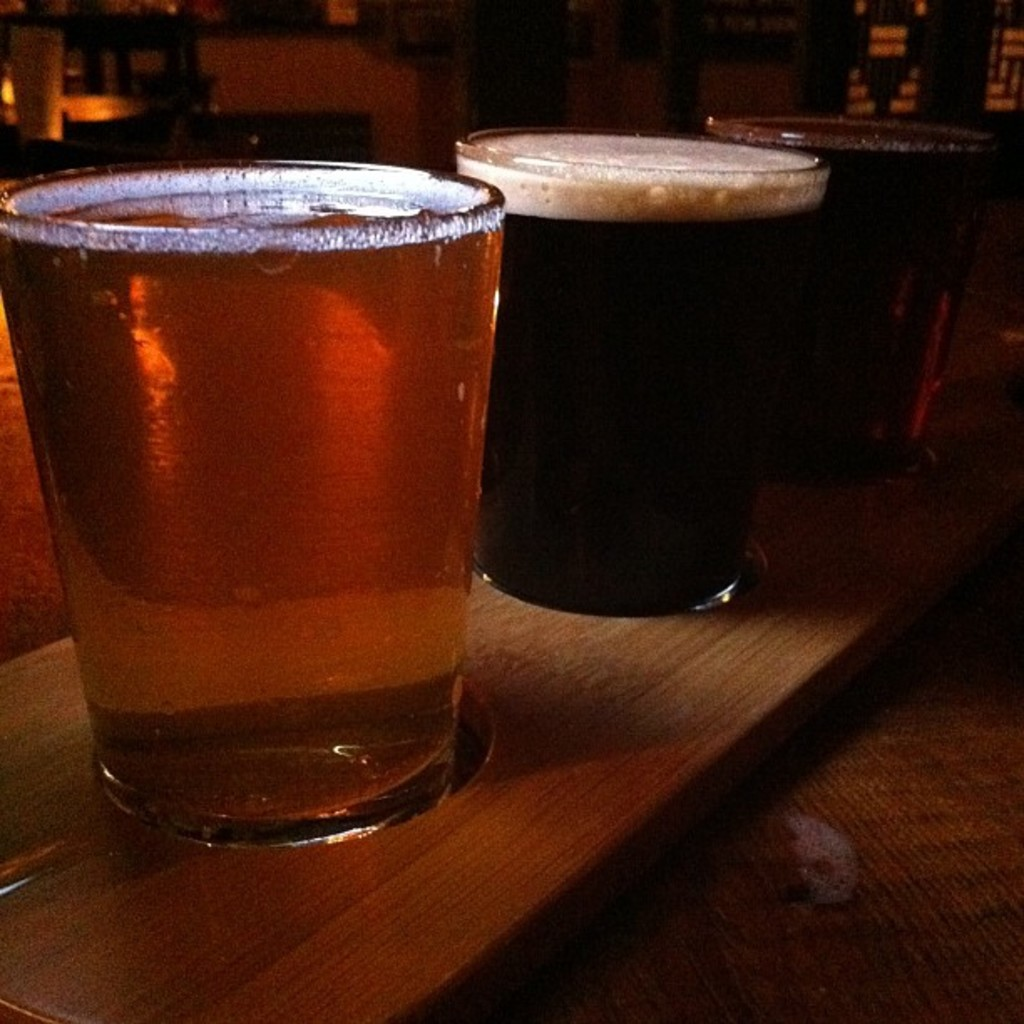Beer: (0, 168, 496, 853), (458, 127, 823, 627)
